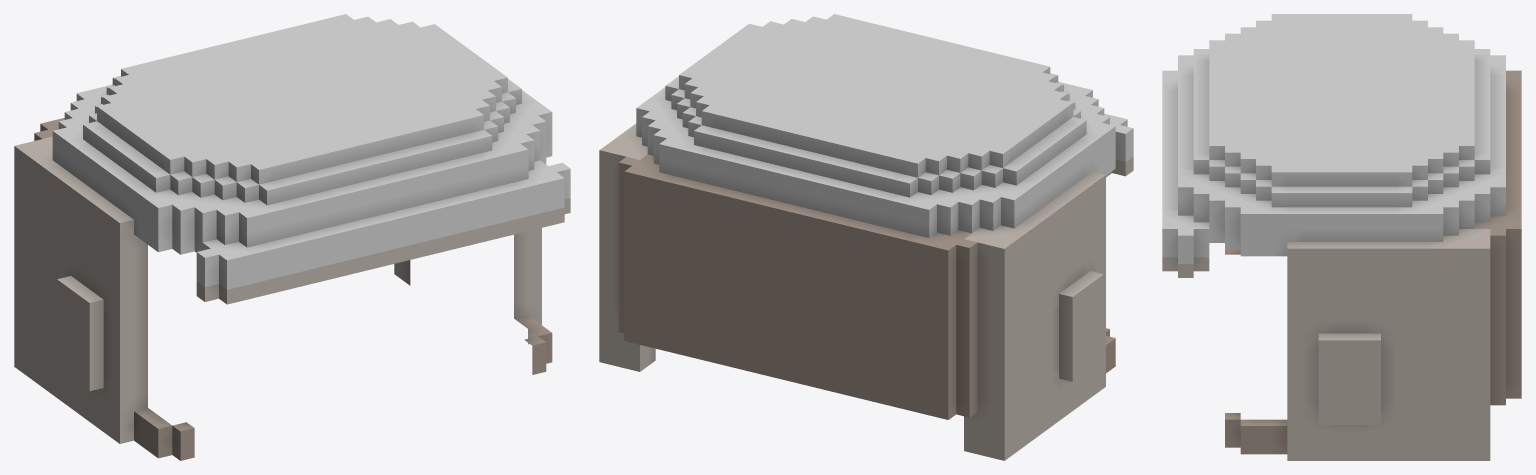
File: hair_f_short_practical.glb
3 views of the same model, side by side, from view 1: azimuth 30°, elevation 25°; view 2: azimuth 150°, elevation 25°; view 3: azimuth 270°, elevation 25° (orthographic). The views are drawn at different scales.
Parts seen in each view (by area): view 1: VoxelVisual; view 2: VoxelVisual; view 3: VoxelVisual.
Part boxes in pixels (x1,y1,x2,y2): VoxelVisual: [14, 14, 570, 460]; VoxelVisual: [599, 14, 1133, 460]; VoxelVisual: [1162, 14, 1521, 460].
Size of what is drawn, in the model's own units: 2 by 1.19 by 1.44.
